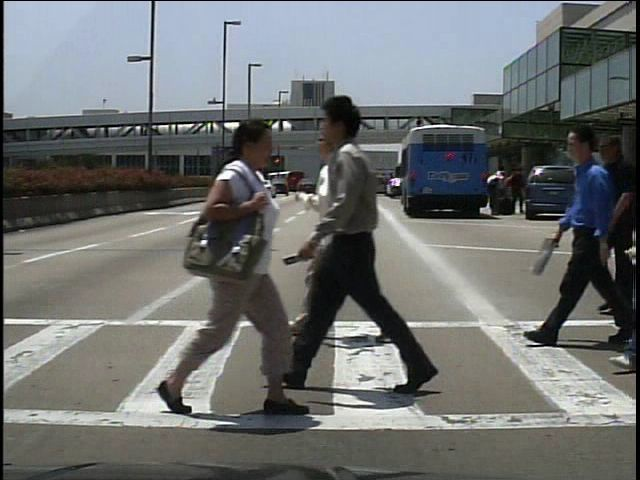person: (301, 90, 445, 404), (164, 115, 296, 418), (286, 118, 410, 355), (536, 114, 629, 348), (486, 162, 504, 214), (508, 166, 526, 216), (591, 168, 592, 218)
